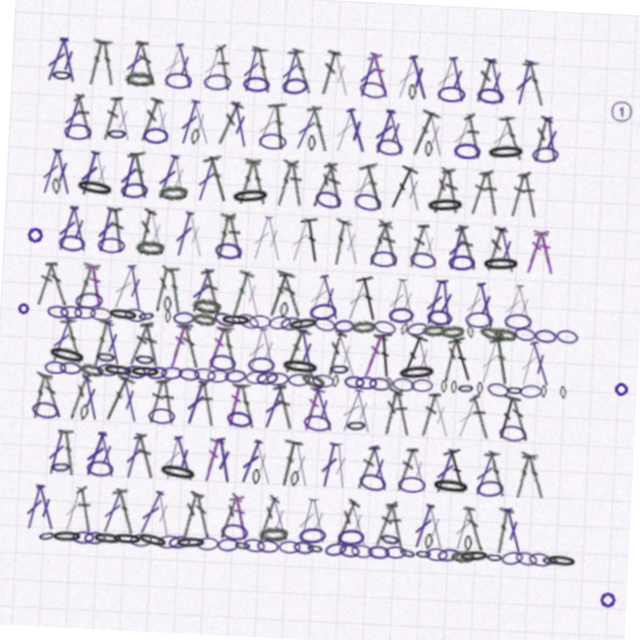chain: (48, 357, 90, 379), (68, 189, 109, 210), (165, 469, 206, 490), (224, 190, 265, 210), (399, 358, 440, 378), (477, 134, 518, 153), (419, 190, 460, 209), (282, 359, 323, 377), (439, 471, 479, 489), (478, 247, 518, 264), (147, 539, 180, 558), (308, 189, 337, 210), (366, 469, 395, 490), (347, 190, 377, 210), (287, 316, 320, 334), (347, 78, 376, 98), (308, 302, 337, 321), (308, 414, 337, 433), (152, 191, 182, 209), (191, 302, 221, 320), (269, 527, 299, 545), (406, 246, 434, 265), (36, 414, 64, 433), (74, 303, 103, 321), (270, 78, 297, 97), (231, 414, 258, 433), (465, 79, 493, 97), (367, 135, 395, 153), (523, 135, 551, 153), (114, 191, 142, 209), (504, 415, 532, 433), (484, 471, 512, 489), (231, 527, 259, 545), (309, 527, 337, 545), (236, 315, 261, 335), (469, 541, 502, 556), (303, 371, 329, 390), (426, 303, 453, 321), (107, 317, 139, 332), (105, 373, 137, 388), (192, 79, 220, 96), (211, 247, 239, 264), (211, 359, 239, 376), (212, 315, 237, 334), (113, 80, 142, 96), (132, 248, 161, 264), (55, 247, 82, 264), (94, 471, 121, 488), (348, 527, 375, 544), (389, 526, 413, 545), (426, 80, 454, 96), (55, 136, 83, 152), (250, 136, 278, 152), (94, 248, 122, 264), (465, 304, 493, 320), (504, 304, 532, 320), (406, 472, 434, 488), (62, 542, 94, 556), (103, 542, 135, 556), (186, 542, 218, 556), (557, 542, 589, 556), (388, 303, 414, 320), (479, 316, 505, 333), (153, 80, 180, 96), (231, 80, 258, 96), (445, 136, 472, 152), (367, 248, 394, 264), (445, 248, 472, 264), (250, 360, 277, 376), (153, 416, 180, 432), (134, 136, 160, 152), (220, 318, 252, 331), (132, 374, 164, 387), (122, 542, 154, 555), (268, 316, 292, 333), (313, 316, 337, 333), (373, 316, 397, 333), (406, 316, 430, 333), (258, 372, 282, 389), (335, 540, 359, 557), (448, 540, 472, 557), (512, 540, 536, 557), (526, 540, 550, 557), (440, 317, 465, 333), (493, 317, 518, 333), (82, 373, 107, 389), (350, 415, 373, 432), (57, 471, 80, 488), (351, 317, 376, 332), (422, 317, 447, 332), (97, 359, 119, 376), (280, 317, 303, 333), (490, 373, 513, 389), (168, 541, 191, 557), (179, 541, 202, 557), (39, 80, 61, 96), (97, 136, 119, 152), (136, 360, 158, 376), (331, 360, 353, 376), (149, 373, 171, 389), (124, 317, 147, 332), (514, 317, 537, 332), (556, 317, 579, 332), (163, 373, 186, 388), (196, 373, 219, 388), (227, 373, 250, 388), (248, 373, 271, 388), (395, 373, 418, 388), (254, 541, 277, 556), (540, 541, 563, 556), (409, 540, 429, 557), (192, 318, 216, 332), (462, 542, 486, 556), (304, 541, 326, 556), (269, 374, 292, 388), (228, 542, 251, 556), (362, 542, 385, 556), (48, 541, 68, 557), (47, 318, 69, 332), (90, 318, 112, 332), (173, 318, 195, 332), (535, 318, 557, 332), (127, 374, 149, 388), (181, 374, 203, 388), (210, 374, 232, 388), (291, 374, 313, 388), (315, 374, 337, 388), (372, 374, 394, 388), (523, 374, 545, 388), (83, 542, 105, 556), (95, 542, 117, 556), (141, 542, 163, 556), (208, 542, 230, 556), (350, 542, 372, 556), (379, 542, 401, 556), (334, 318, 355, 332), (60, 318, 82, 331), (74, 318, 96, 331), (249, 318, 271, 331), (47, 374, 69, 387), (62, 374, 84, 387), (100, 374, 122, 387), (358, 374, 380, 387), (414, 374, 436, 387), (268, 542, 290, 555), (290, 542, 312, 555), (396, 542, 418, 555), (437, 542, 459, 555), (137, 317, 156, 332), (317, 541, 336, 556), (347, 374, 368, 387), (460, 374, 478, 388), (245, 542, 263, 556), (553, 542, 571, 556), (509, 374, 527, 387), (426, 542, 444, 555), (497, 542, 515, 555), (181, 135, 191, 152), (45, 191, 55, 208), (84, 416, 94, 432), (279, 304, 288, 320), (298, 472, 307, 488), (435, 528, 444, 544), (397, 80, 405, 96), (299, 136, 307, 152), (416, 136, 424, 152), (163, 304, 171, 320), (260, 472, 268, 488), (475, 528, 483, 544), (400, 318, 409, 332), (467, 318, 475, 331), (389, 374, 397, 387), (335, 374, 342, 387), (563, 374, 570, 387), (165, 318, 171, 331), (444, 374, 450, 387), (454, 374, 460, 387), (480, 374, 486, 387), (544, 374, 550, 387)
double: (104, 384, 139, 434), (397, 104, 431, 154), (378, 160, 412, 209), (195, 160, 228, 209), (351, 160, 384, 209), (280, 328, 313, 377), (448, 328, 481, 377), (262, 272, 294, 321), (398, 328, 430, 377), (449, 440, 481, 489), (274, 48, 305, 97), (488, 104, 519, 153), (359, 216, 390, 265), (145, 497, 176, 545), (119, 160, 149, 209), (353, 272, 383, 321), (204, 105, 234, 153), (282, 105, 312, 153), (333, 329, 363, 377), (497, 384, 526, 433), (146, 49, 175, 97), (509, 49, 538, 97), (177, 105, 206, 153), (243, 105, 272, 153), (333, 105, 362, 153), (450, 217, 479, 265), (68, 273, 97, 321), (224, 273, 253, 321), (60, 329, 89, 377), (528, 329, 557, 377), (314, 385, 343, 433), (341, 385, 370, 433), (431, 385, 460, 433), (458, 385, 487, 433), (177, 441, 206, 489), (528, 441, 557, 489), (275, 497, 304, 545), (490, 328, 518, 377), (341, 497, 370, 544), (30, 49, 58, 97), (315, 49, 343, 97), (354, 49, 382, 97), (393, 49, 421, 97), (295, 105, 323, 153), (439, 105, 467, 153), (478, 105, 506, 153), (225, 161, 253, 209), (264, 161, 292, 209), (342, 161, 370, 209), (412, 217, 440, 265), (108, 273, 136, 321), (186, 273, 214, 321), (303, 273, 331, 321), (315, 273, 343, 321), (342, 273, 370, 321), (498, 273, 526, 321), (510, 273, 538, 321), (361, 329, 389, 377), (237, 385, 265, 433), (264, 385, 292, 433), (88, 441, 116, 489), (139, 441, 167, 489), (244, 441, 272, 489), (256, 441, 284, 489), (373, 441, 401, 489), (412, 441, 440, 489), (478, 441, 506, 489), (490, 441, 518, 489), (108, 497, 136, 545), (120, 497, 148, 545), (354, 497, 382, 545), (302, 162, 331, 208), (69, 49, 96, 97), (159, 49, 186, 97), (381, 49, 408, 97), (420, 49, 447, 97), (100, 105, 127, 153), (127, 105, 154, 153), (322, 105, 349, 153), (361, 105, 388, 153), (373, 105, 400, 153), (147, 161, 174, 209), (186, 161, 213, 209), (237, 161, 264, 209), (139, 217, 166, 265), (178, 217, 205, 265), (283, 217, 310, 265), (295, 217, 322, 265), (334, 217, 361, 265), (373, 217, 400, 265), (490, 217, 517, 265), (529, 217, 556, 265), (198, 273, 225, 321), (393, 273, 420, 321), (49, 329, 76, 377), (88, 329, 115, 377), (205, 329, 232, 377), (276, 385, 303, 433), (354, 385, 381, 433), (283, 441, 310, 489), (439, 441, 466, 489), (517, 441, 544, 489), (42, 497, 69, 545), (420, 497, 447, 545), (432, 497, 459, 545), (510, 497, 537, 545), (43, 49, 69, 97), (109, 49, 135, 97), (187, 49, 213, 97), (238, 49, 264, 97), (472, 49, 498, 97), (50, 105, 76, 153), (140, 105, 166, 153), (257, 105, 283, 153), (413, 105, 439, 153), (43, 161, 69, 209), (82, 161, 108, 209), (394, 161, 420, 209), (50, 217, 76, 265), (62, 217, 88, 265), (257, 217, 283, 265), (518, 217, 544, 265), (238, 273, 264, 321), (460, 273, 486, 321), (472, 273, 498, 321), (101, 329, 127, 377), (140, 329, 166, 377), (218, 329, 244, 377), (257, 329, 283, 377), (413, 329, 439, 377), (82, 385, 108, 433), (121, 385, 147, 433), (187, 385, 213, 433), (101, 441, 127, 489), (70, 497, 96, 545), (43, 273, 69, 320), (128, 329, 154, 376), (43, 385, 69, 432), (70, 385, 96, 432), (472, 385, 498, 432), (226, 497, 252, 544), (343, 49, 368, 97), (433, 49, 458, 97), (460, 49, 485, 97), (167, 105, 192, 153), (218, 105, 243, 153), (31, 161, 56, 209), (70, 161, 95, 209), (316, 161, 341, 209), (206, 217, 231, 265), (245, 217, 270, 265), (479, 217, 504, 265), (421, 273, 446, 321), (167, 329, 192, 377), (296, 329, 321, 377), (479, 329, 504, 377), (31, 385, 56, 433), (304, 385, 329, 433), (296, 441, 321, 489), (238, 497, 263, 545), (316, 497, 341, 545), (62, 105, 87, 152), (277, 273, 302, 320), (362, 441, 387, 488), (187, 497, 212, 544), (265, 497, 290, 544), (472, 497, 497, 544), (83, 49, 107, 97), (227, 49, 251, 97), (266, 49, 290, 97), (305, 49, 329, 97), (500, 49, 524, 97), (110, 161, 134, 209), (434, 161, 458, 209), (168, 217, 192, 265), (324, 217, 348, 265), (441, 217, 465, 265), (122, 273, 146, 321), (383, 273, 407, 321), (246, 329, 270, 377), (519, 329, 543, 377), (51, 441, 75, 489), (129, 441, 153, 489), (207, 441, 231, 489), (219, 441, 243, 489), (32, 497, 56, 545), (161, 497, 185, 545), (461, 497, 485, 545), (500, 497, 524, 545), (122, 49, 146, 96), (519, 105, 543, 152), (219, 217, 243, 264), (324, 329, 348, 376), (375, 329, 399, 376), (383, 385, 407, 432), (395, 385, 419, 432), (512, 385, 536, 432), (383, 497, 407, 544), (83, 273, 106, 321), (161, 273, 184, 321), (168, 441, 191, 489), (305, 497, 328, 545), (453, 105, 476, 152), (531, 105, 554, 152), (161, 161, 184, 208), (512, 161, 535, 208), (90, 217, 113, 264), (129, 217, 152, 264), (180, 329, 203, 376), (63, 441, 86, 488), (402, 441, 425, 488), (395, 497, 418, 544), (201, 49, 223, 96), (423, 161, 445, 208), (462, 161, 484, 208), (474, 161, 496, 208), (103, 217, 125, 264), (403, 217, 425, 264), (33, 273, 55, 320), (201, 385, 223, 432), (228, 385, 250, 432), (423, 385, 445, 432), (325, 441, 347, 488), (84, 497, 106, 544), (201, 497, 223, 544), (91, 105, 112, 152), (279, 161, 300, 208), (150, 273, 171, 320), (435, 273, 456, 320), (442, 329, 463, 376), (162, 385, 183, 432), (502, 161, 522, 208), (151, 385, 171, 432), (338, 441, 358, 488)
noise: (598, 84, 624, 110), (21, 239, 41, 259), (612, 576, 630, 594), (617, 367, 632, 382), (16, 316, 30, 330)
